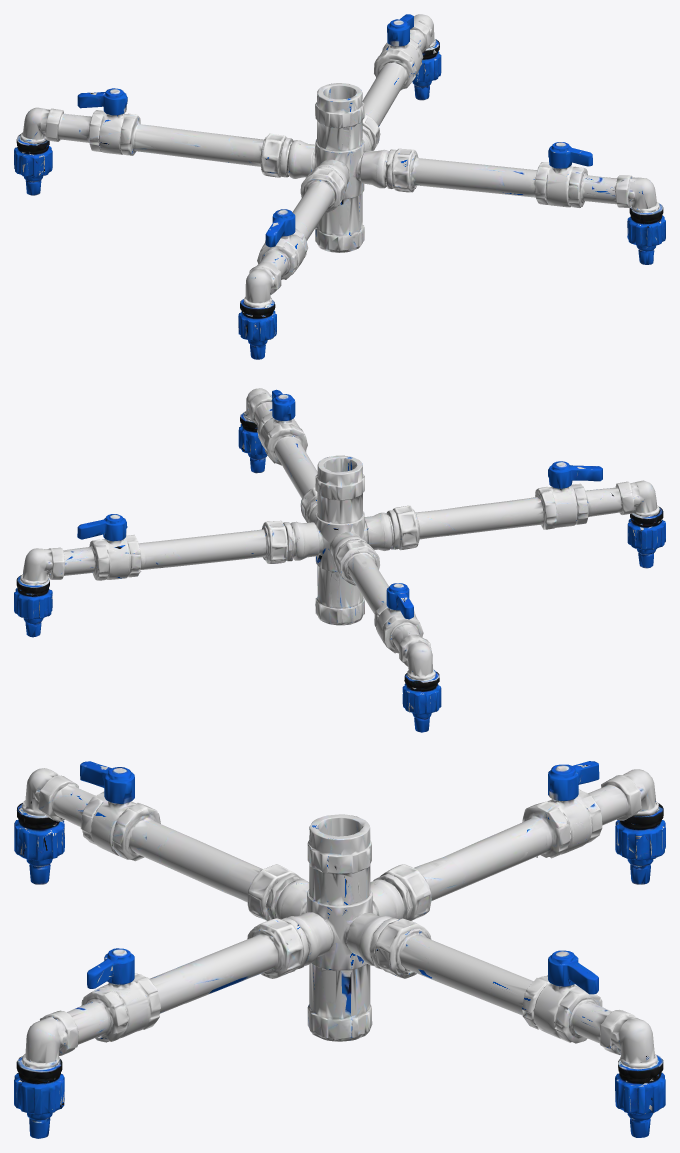
File: distribution_pipe.glb
3 renders of one model, top to bottom at view 1: azimuth 30°, elevation 25°; view 2: azimuth 150°, elevation 25°; view 3: azimuth 270°, elevation 25°, orthographic. The views are drawn at different scales.
Size of the model in its own units: 1.9 by 0.6518 by 1.9.
1 material, 1 textured.
